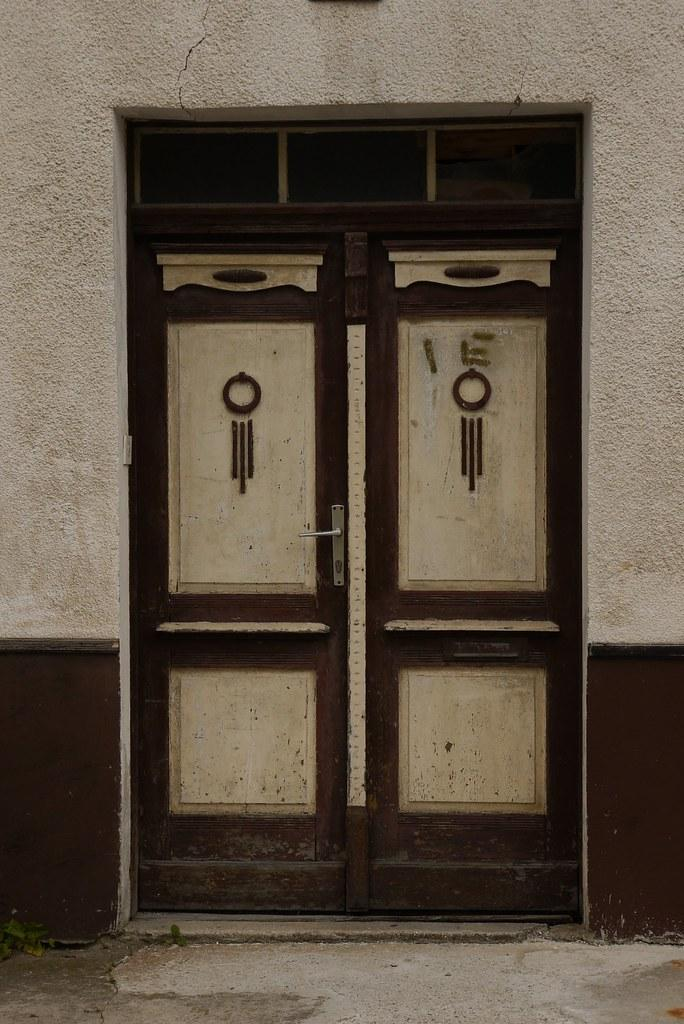door: (130, 226, 585, 922), (363, 234, 584, 921), (131, 236, 351, 915)
